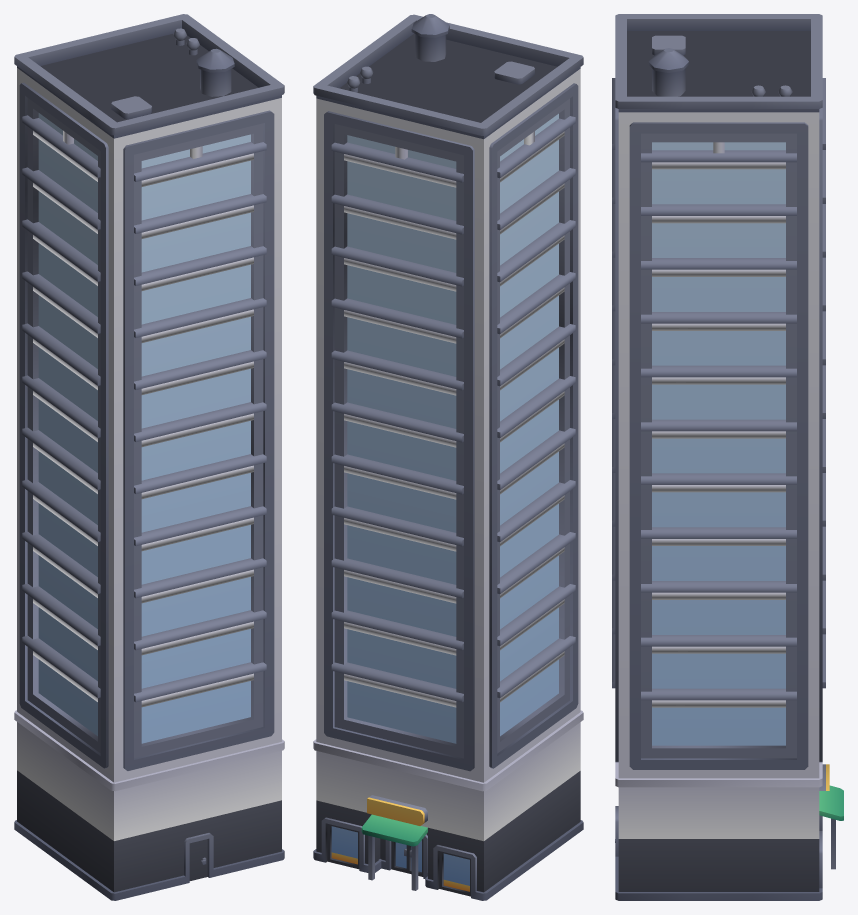
File: c_building-skyscraper-d.glb
The picture shows the model from 3 angles, left to right: view 1: azimuth 30°, elevation 25°; view 2: azimuth 150°, elevation 25°; view 3: azimuth 270°, elevation 25°; orthographic projection. The views are drawn at different scales.
Parts seen in each view (by area): view 1: building-skyscraper-d; view 2: building-skyscraper-d; view 3: building-skyscraper-d.
Part boxes in pixels (x1,y1,x2,y2): building-skyscraper-d: [14, 14, 284, 900]; building-skyscraper-d: [313, 14, 583, 900]; building-skyscraper-d: [612, 14, 843, 900].
Bounding box in the file's own units: 1.28 × 5.47 × 1.39.
1 material, 1 textured.
